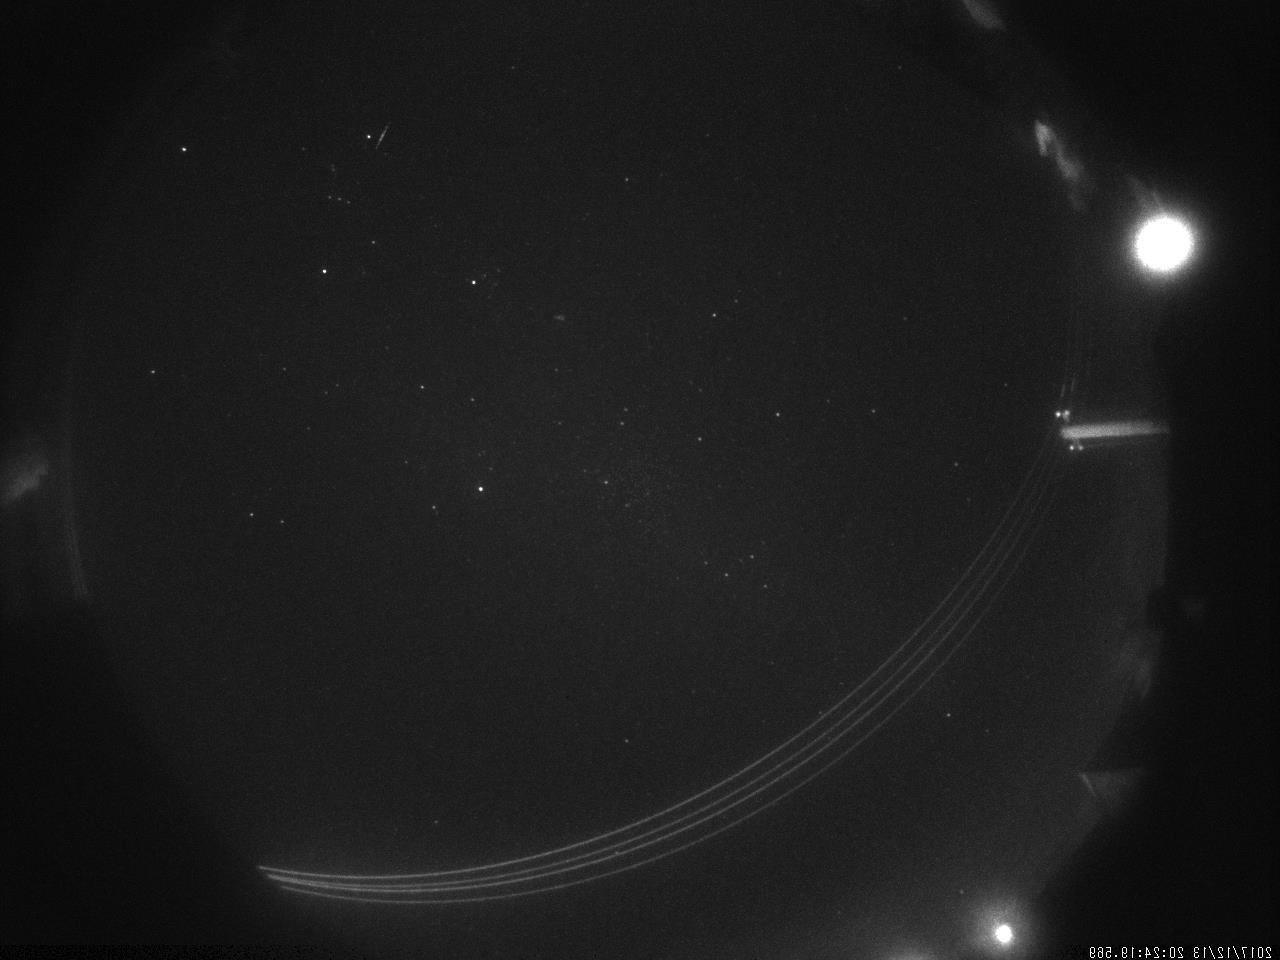meteor: (374, 111, 391, 152)
